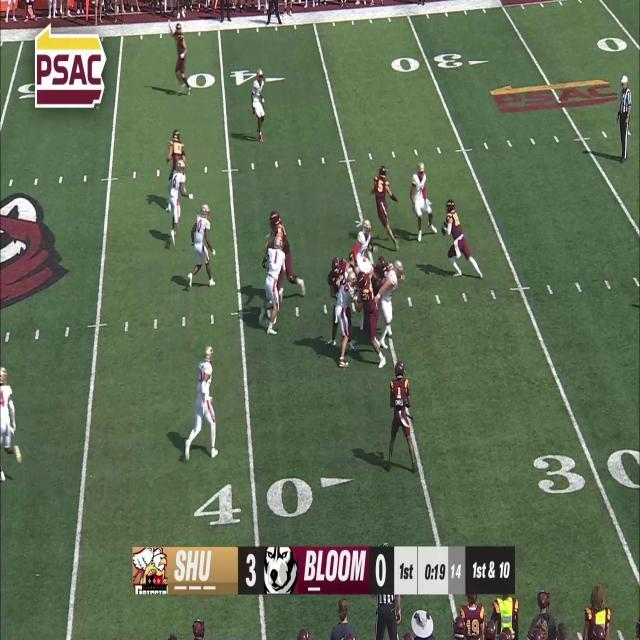football: (441, 221, 447, 236)
